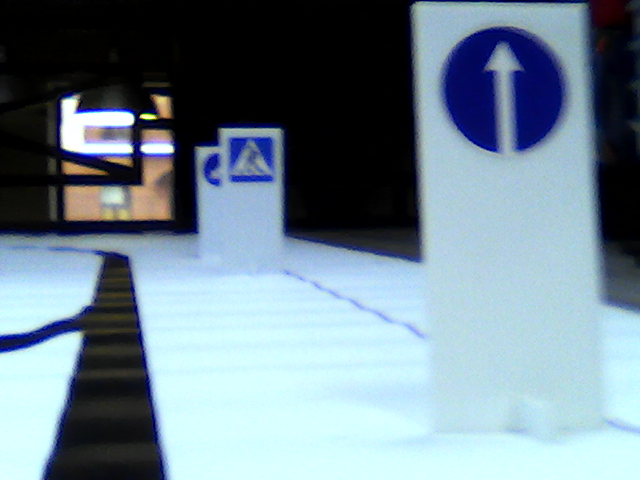forw: (437, 24, 568, 157)
pesh: (227, 134, 275, 185)
